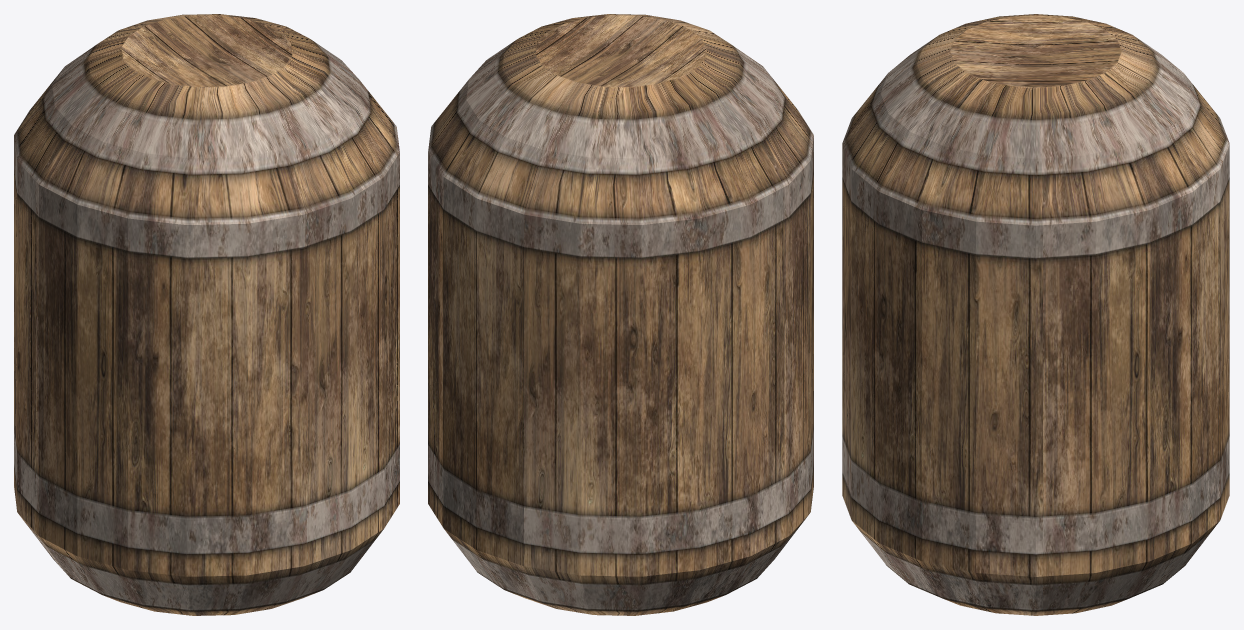
The model's file is barrel.fbx.
3 views of the same model, side by side, from view 1: azimuth 30°, elevation 25°; view 2: azimuth 150°, elevation 25°; view 3: azimuth 270°, elevation 25° (orthographic).
Visible parts, largest first — view 1: pCylinder5; view 2: pCylinder5; view 3: pCylinder5.
Part boxes in pixels (left/top/right/bottom): pCylinder5: left=14, top=14, right=399, bottom=615; pCylinder5: left=428, top=14, right=813, bottom=615; pCylinder5: left=842, top=14, right=1229, bottom=615.
Size of the model in its own units: 3.44 by 4.99 by 3.44.
1 material, 1 textured.
